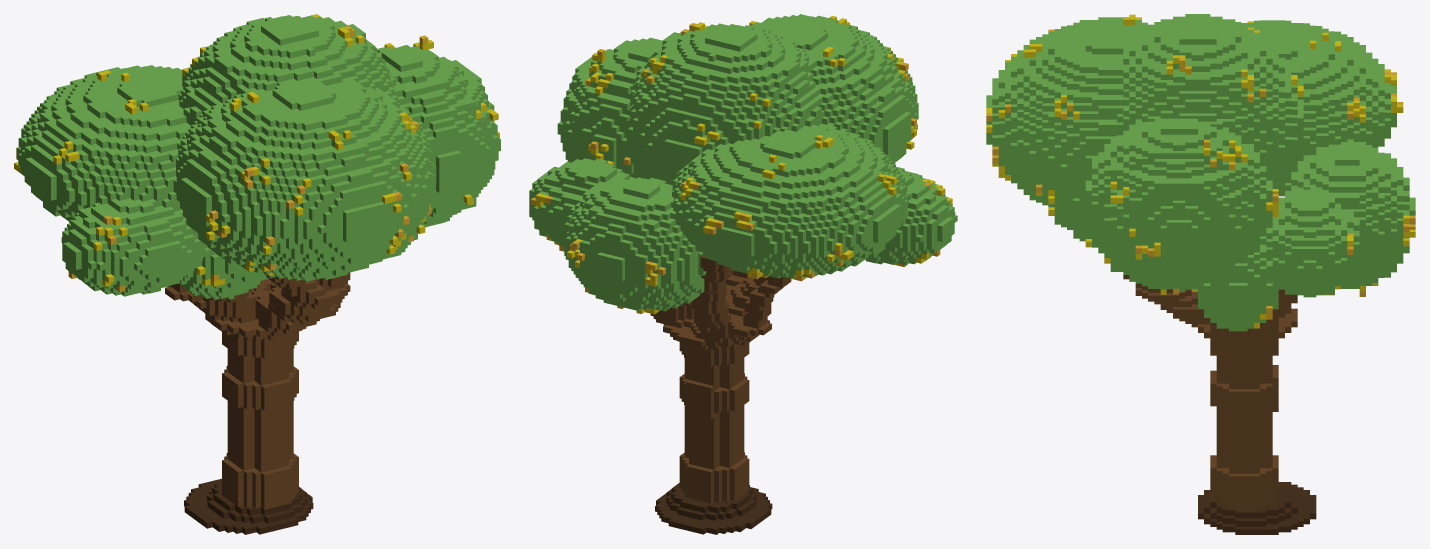
Rendered from Arbórea - Cajá.obj.
The picture shows the model from 3 angles, left to right: view 1: azimuth 30°, elevation 25°; view 2: azimuth 150°, elevation 25°; view 3: azimuth 270°, elevation 25°; orthographic projection. The views are drawn at different scales.
Size of the model in its own units: 7.4 by 8.6 by 6.9.
1 material, 1 textured.
